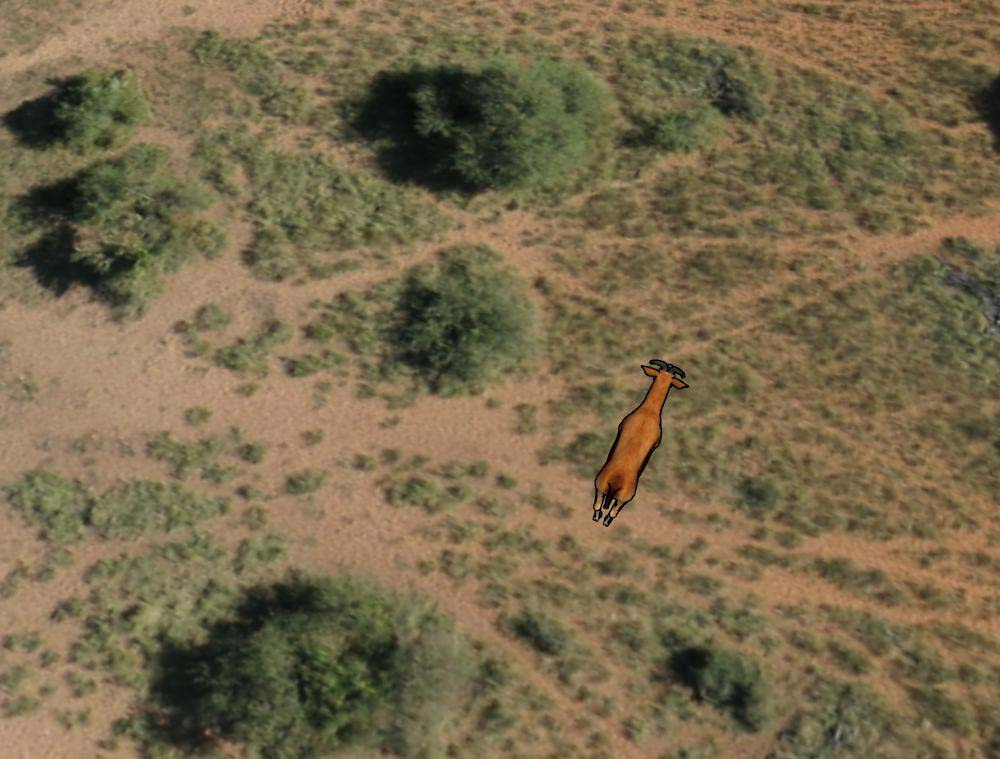springbok: (592, 355, 690, 539)
